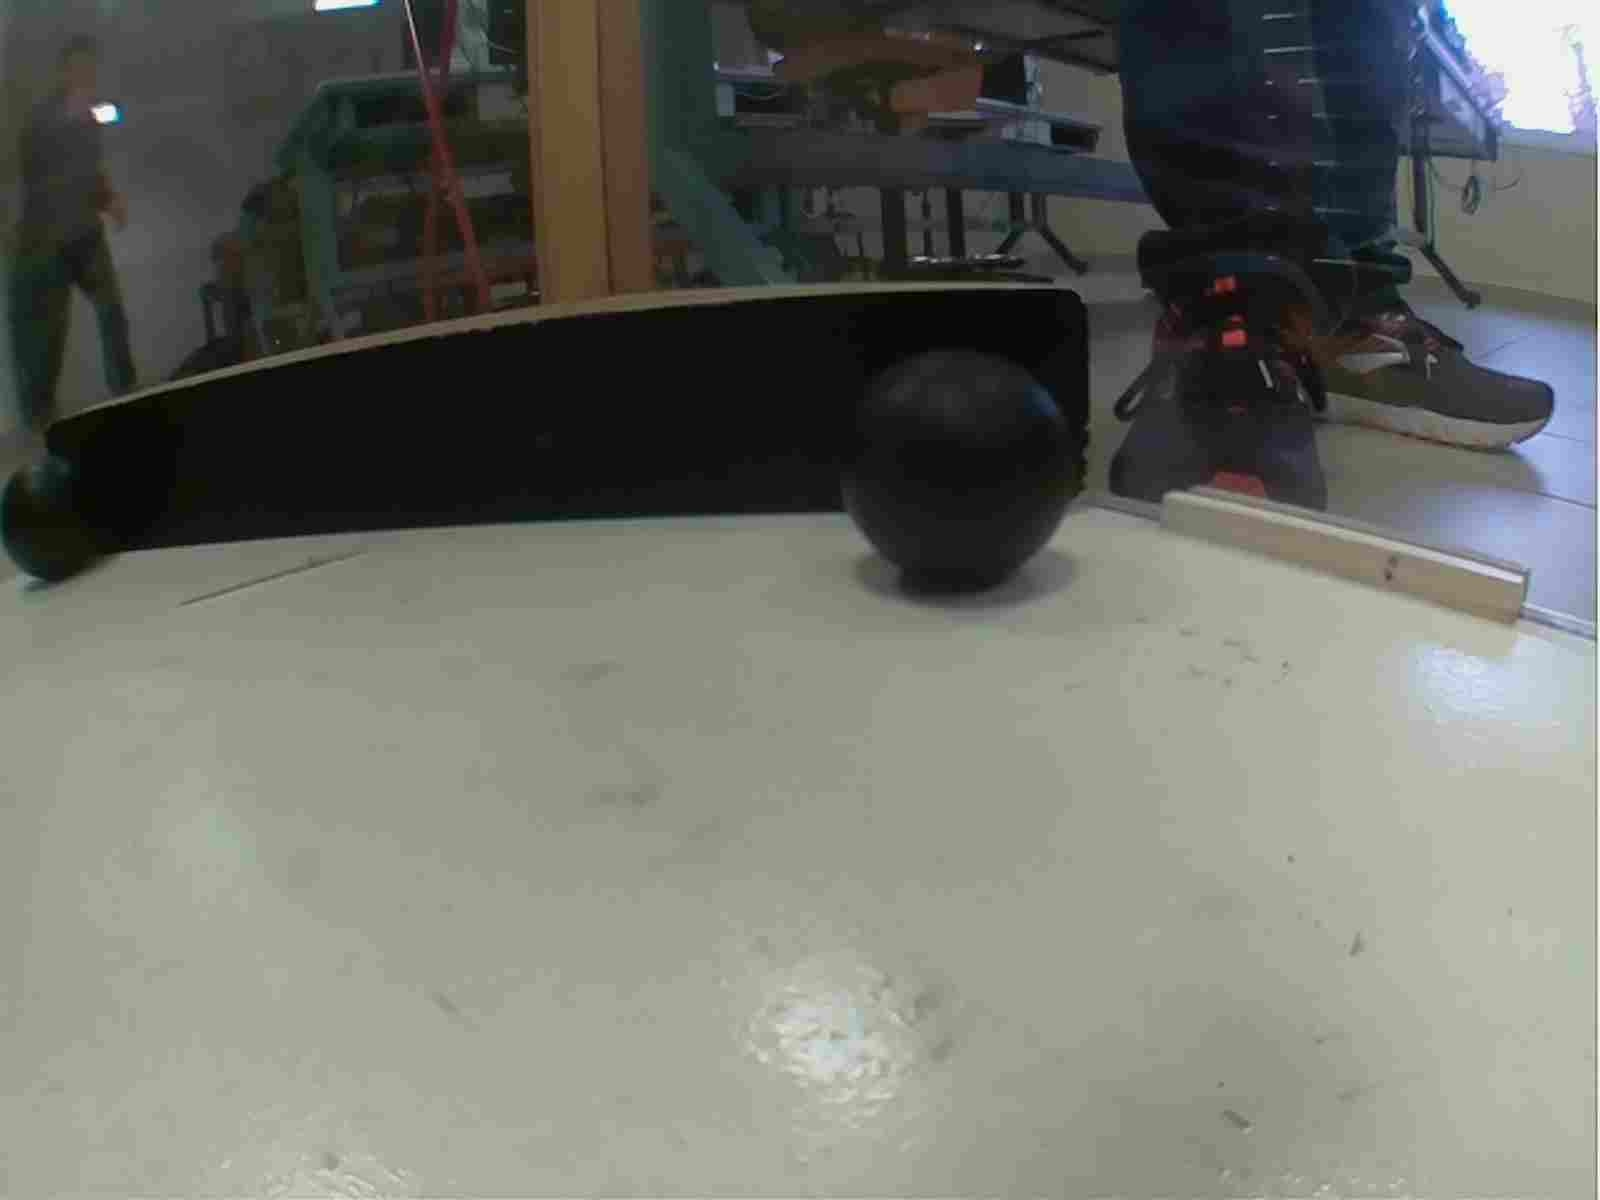nera: (828, 350, 1086, 587), (1, 459, 129, 589)
